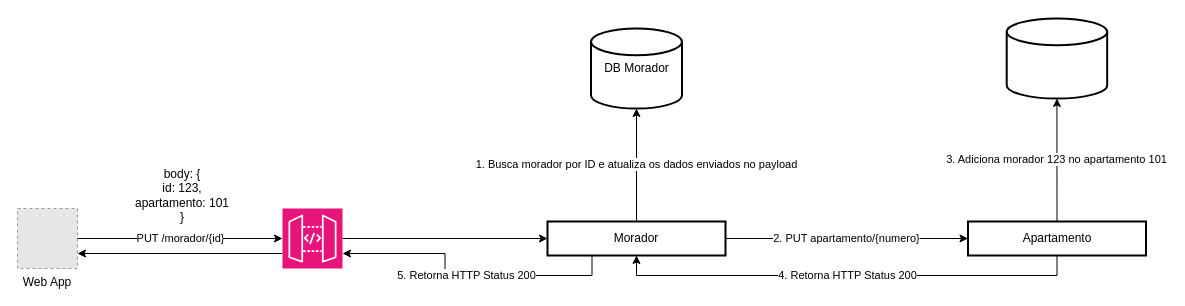
Image size: 1185x306. Some labels were removed from this diagram. Grey dashed boxes stand in for pictures. The shapes that lost their labels are listed below. From the top down, each one's box as (x1, y1, x2, y2) in pixels, then its label:
(1005, 17, 1108, 99): DB Apartamento
(282, 208, 342, 268): AWS API Gateway
